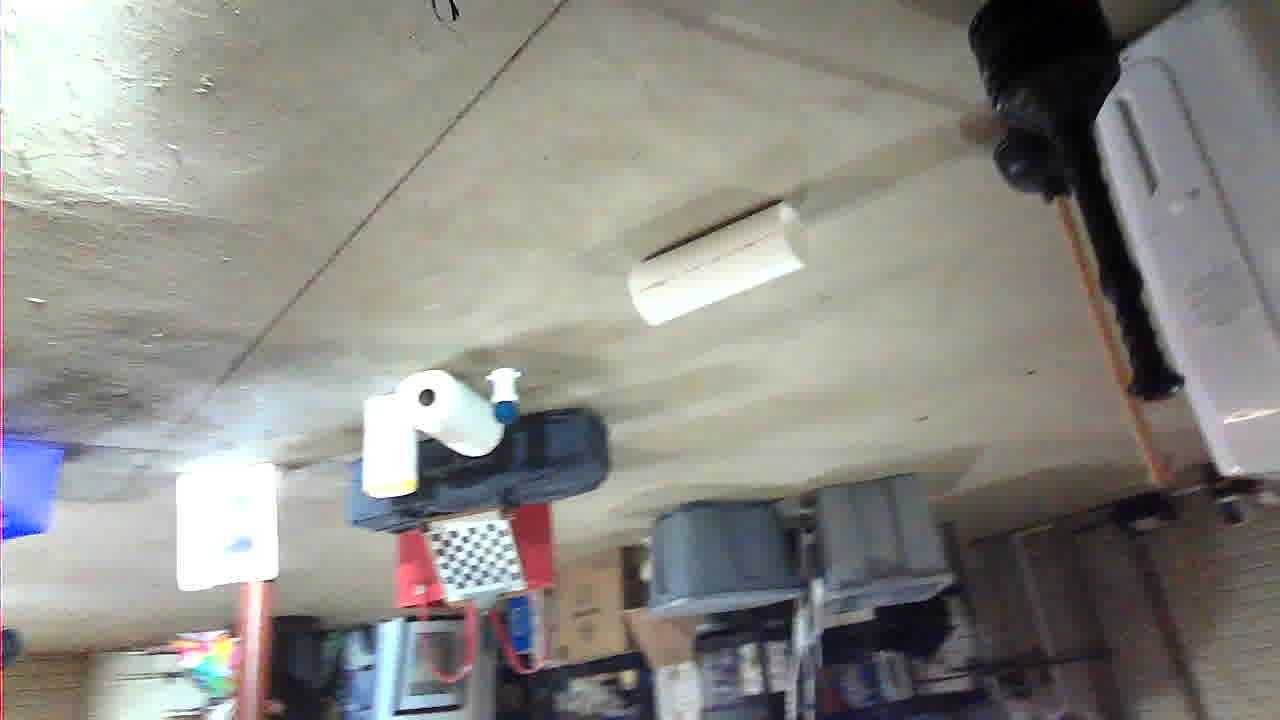coral: (472, 395, 653, 517)
